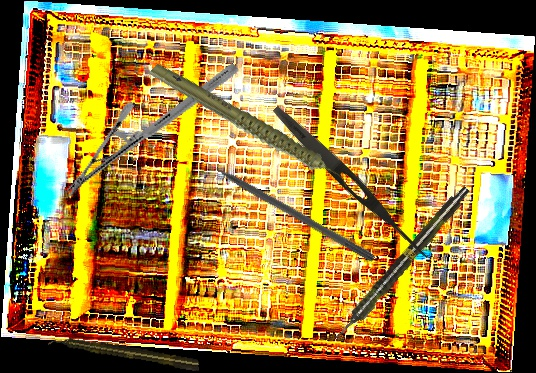Dressing Forceps: (268, 101, 435, 264)
Handpiece: (147, 27, 352, 229), (329, 182, 474, 345), (47, 332, 201, 373)
Needle Holder: (62, 21, 241, 239)
Pusher: (192, 149, 377, 264)
